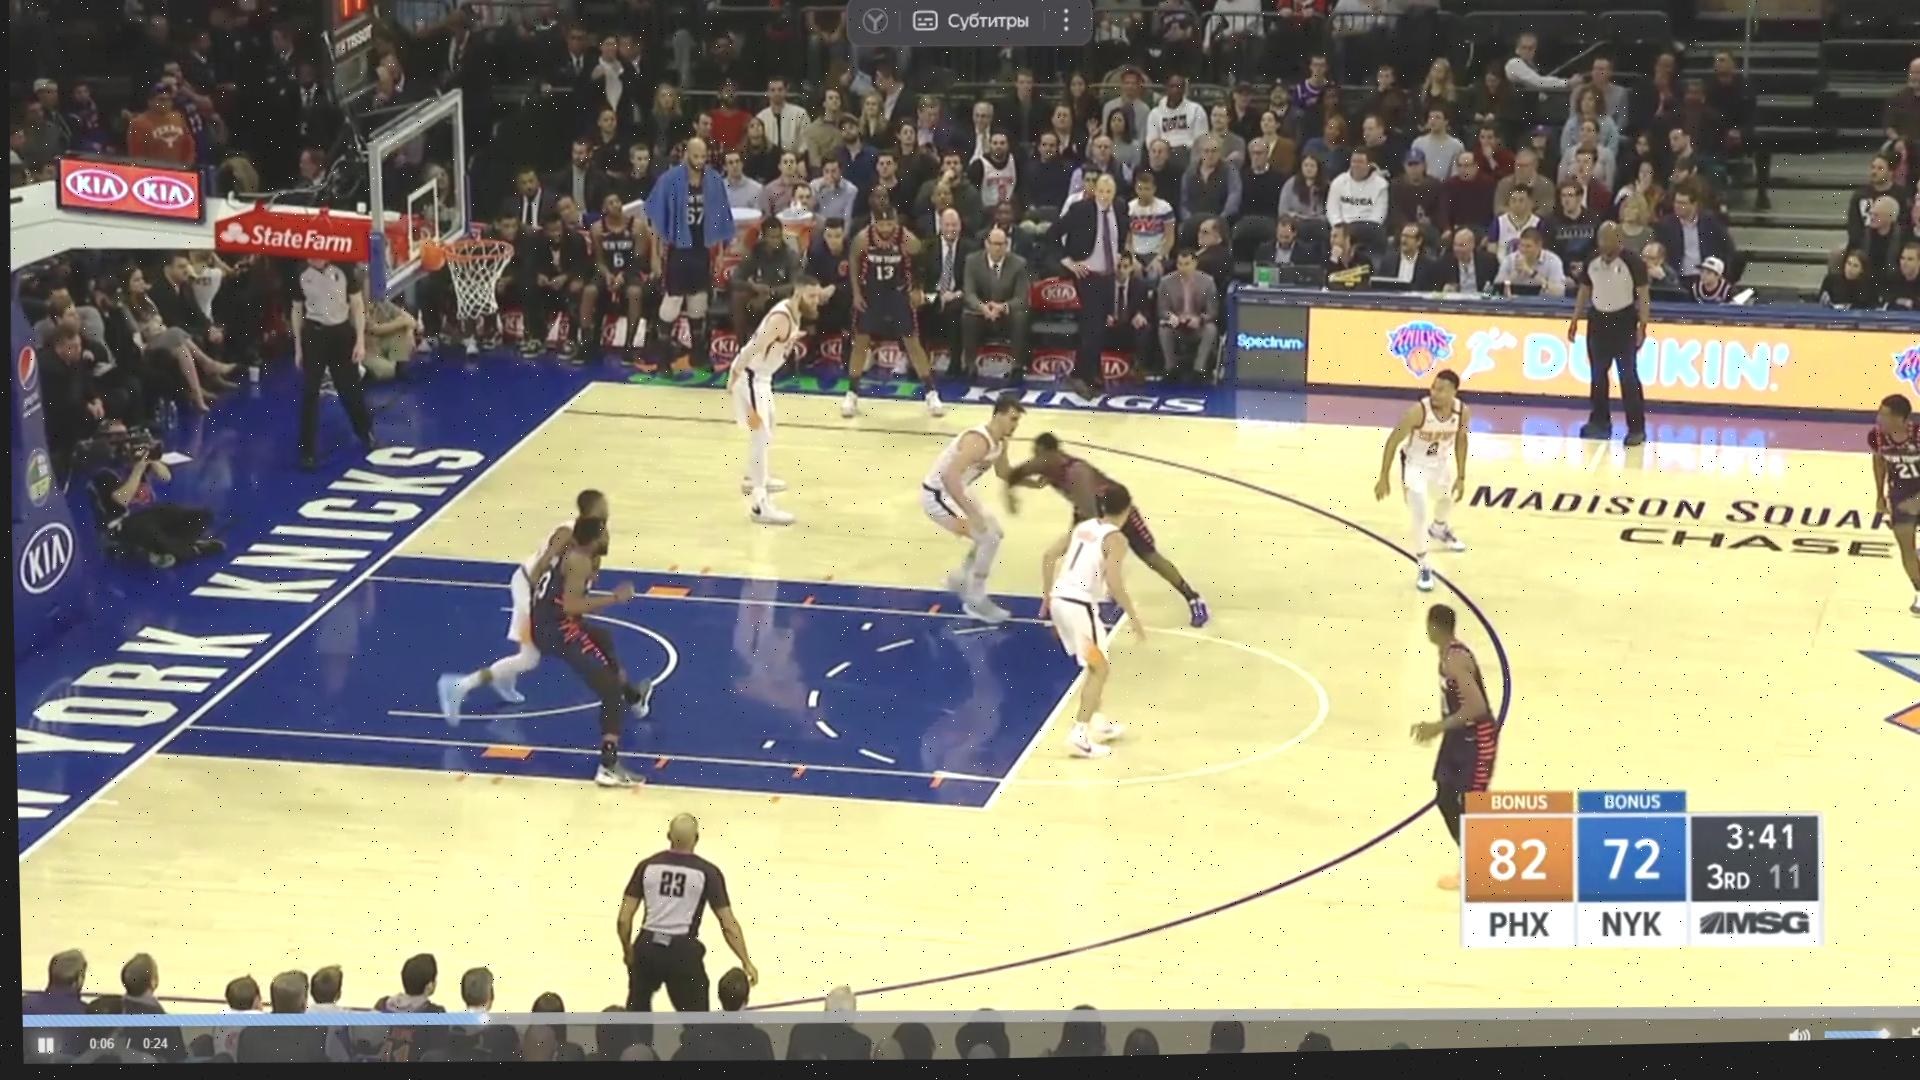no_foul: (920, 380, 1201, 653)
